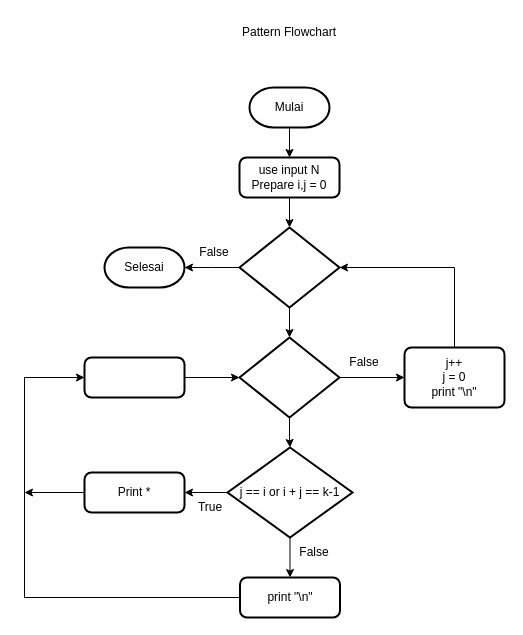
Some shapes in this 523 by 635 pixel diagram are drawn without their labels. The centre of each missing label's shape, as x and y in pixels:
"i < k" goes at (x=289, y=267).
"j < k" goes at (x=289, y=377).
"j++" goes at (x=134, y=377).
